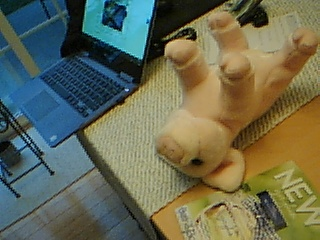piggy: (152, 8, 320, 194)
